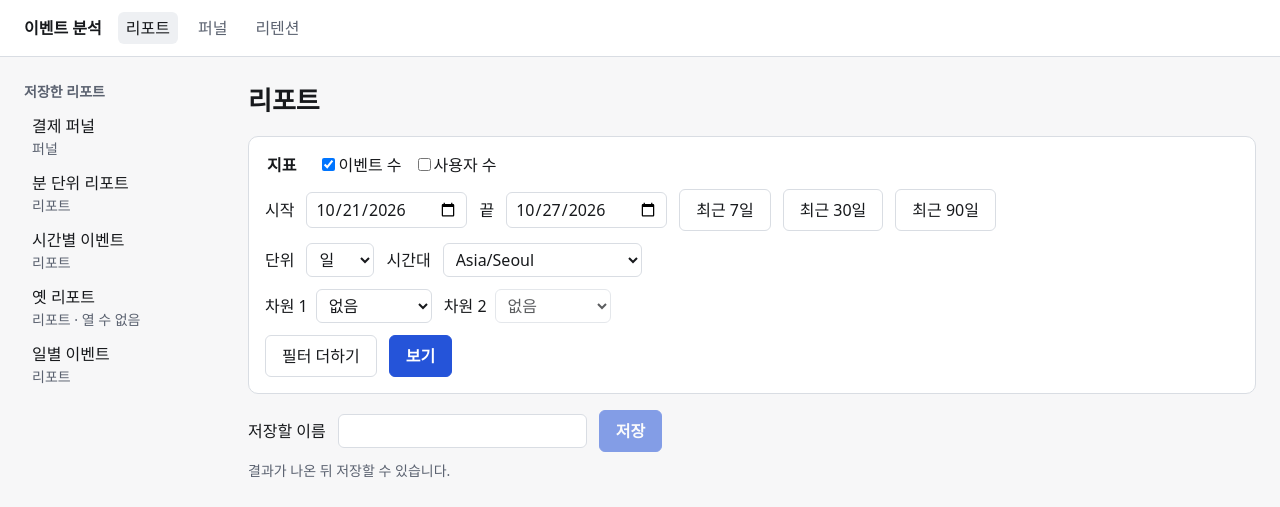
Test: 열기 › 목록에서 열면 그 설정으로 양식을 채우고 바로 센다. 다른 것을 열면 양식이 그것으로 바뀐다
The width and height of the screenshot is (1280, 507).
Click the link "시간별 이벤트 리포트": (80,250) [32,228,128,272]
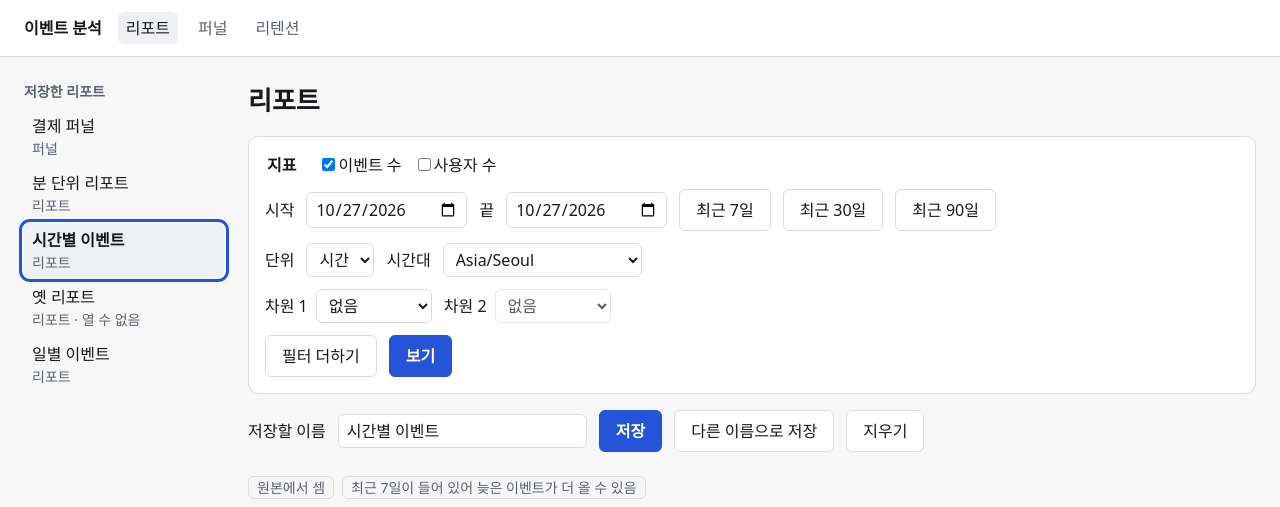
Check: the link "시간별 이벤트 리포트" is shown, box [24,224,224,277]
Check: the dropdown labelled "단위" shows "시간", box [306,243,374,277]
Check: the field labelled "저장할 이름" holds "시간별 이벤트", box [338,414,587,448]
Click the link "일별 이벤트 리포트": (73,364) [32,342,113,386]
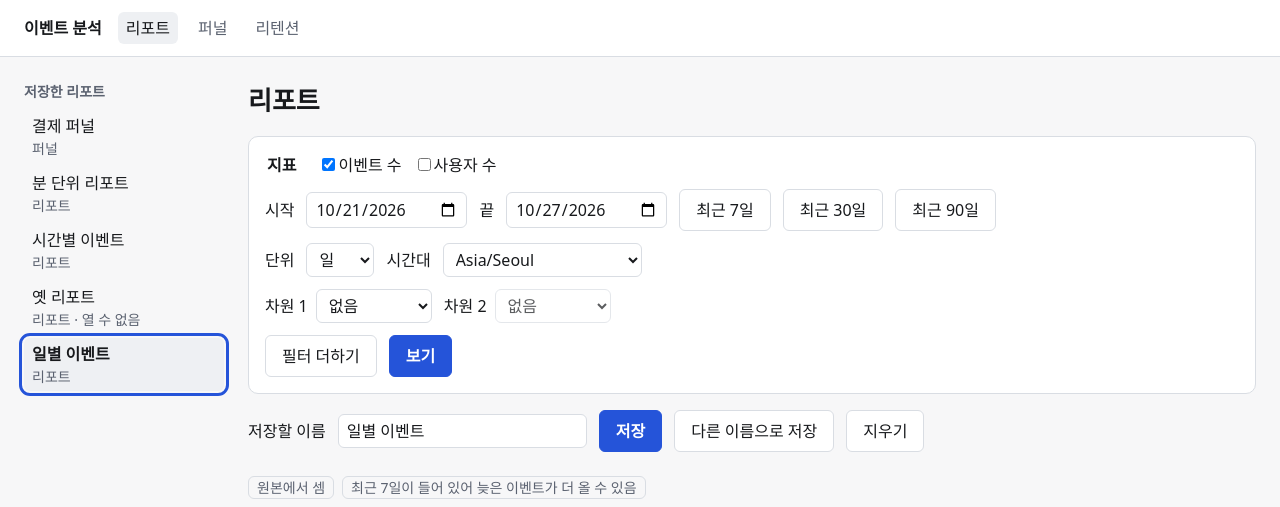
Check: the dropdown labelled "단위" shows "일", box [306,243,374,277]
Check: the field labelled "저장할 이름" holds "일별 이벤트", box [338,414,587,448]
